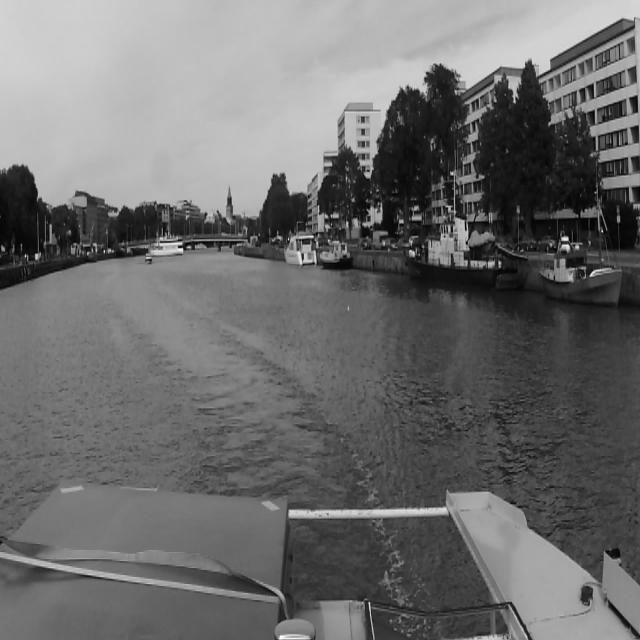ship: (399, 150, 503, 286), (538, 230, 624, 308), (282, 230, 318, 268), (319, 238, 355, 273), (146, 231, 184, 259), (114, 246, 126, 258), (87, 251, 97, 262), (144, 252, 152, 265), (126, 247, 132, 258)
